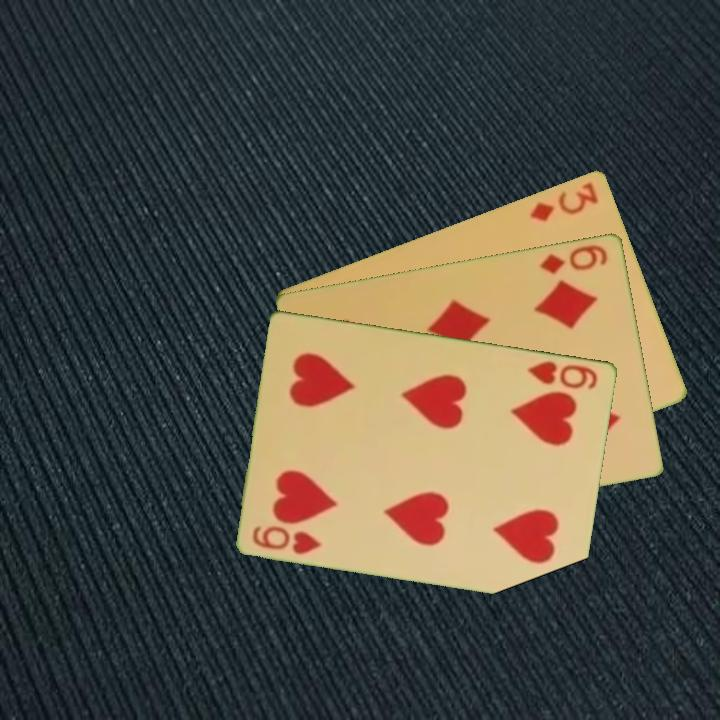3d: (527, 178, 601, 224)
6d: (536, 240, 611, 276)
6h: (524, 357, 601, 392), (249, 522, 325, 557)
